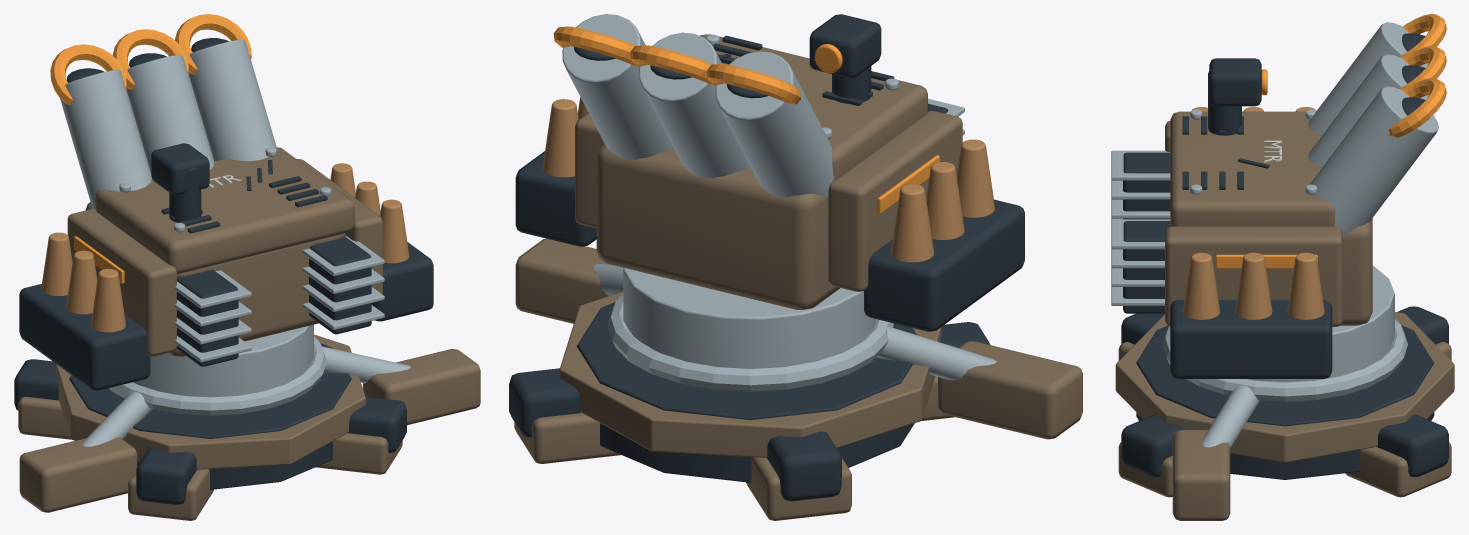
Rendered from 07_cluster_hydra.glb.
3 renders of one model, left to right at view 1: azimuth 30°, elevation 25°; view 2: azimuth 150°, elevation 25°; view 3: azimuth 270°, elevation 25°, orthographic. The views are drawn at different scales.
Parts seen in each view (by area): view 1: Armored cradle, Rivet, Armored footing, Cooling vent, Recessed bearing, Bearing, Shell, Identification strip; view 2: Armored cradle, Armored footing, Bearing, Rivet, Recessed bearing, Cooling vent, Shell, Identification strip; view 3: Armored cradle, Cooling vent, Armored footing, Rivet, Recessed bearing, Bearing, Shell, Identification strip.
Boxes of the visible parts, x1=… form: Armored cradle: x1=67, y1=147, x2=382, y2=356; Rivet: x1=60, y1=39, x2=384, y2=362; Armored footing: x1=18, y1=334, x2=480, y2=520; Cooling vent: x1=19, y1=38, x2=433, y2=390; Recessed bearing: x1=14, y1=343, x2=406, y2=504; Bearing: x1=83, y1=324, x2=410, y2=446; Shell: x1=41, y1=163, x2=409, y2=332; Identification strip: x1=50, y1=14, x2=251, y2=283; Armored cradle: x1=575, y1=34, x2=962, y2=309; Armored footing: x1=514, y1=238, x2=1082, y2=520; Bearing: x1=594, y1=263, x2=996, y2=391; Rivet: x1=562, y1=14, x2=964, y2=197; Recessed bearing: x1=509, y1=302, x2=990, y2=501; Cooling vent: x1=515, y1=14, x2=1024, y2=331; Shell: x1=542, y1=97, x2=994, y2=262; Identification strip: x1=553, y1=26, x2=939, y2=213; Armored cradle: x1=1165, y1=111, x2=1372, y2=326; Cooling vent: x1=1123, y1=33, x2=1425, y2=378; Armored footing: x1=1115, y1=311, x2=1454, y2=520; Rivet: x1=1111, y1=22, x2=1438, y2=305; Recessed bearing: x1=1121, y1=306, x2=1448, y2=479; Bearing: x1=1162, y1=265, x2=1407, y2=448; Shell: x1=1183, y1=107, x2=1324, y2=319; Identification strip: x1=1216, y1=14, x2=1446, y2=268.
Size of the model in its own units: 2.05 by 1.59 by 1.31.
